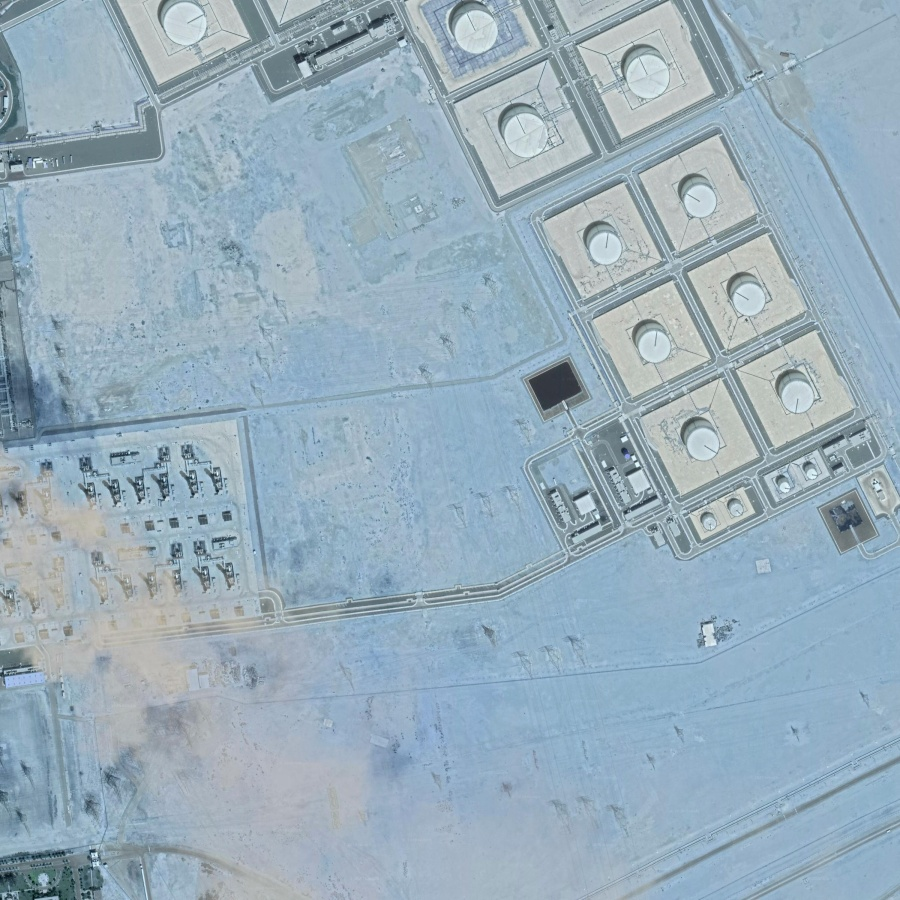PowerPlant: (534, 124, 854, 497)
